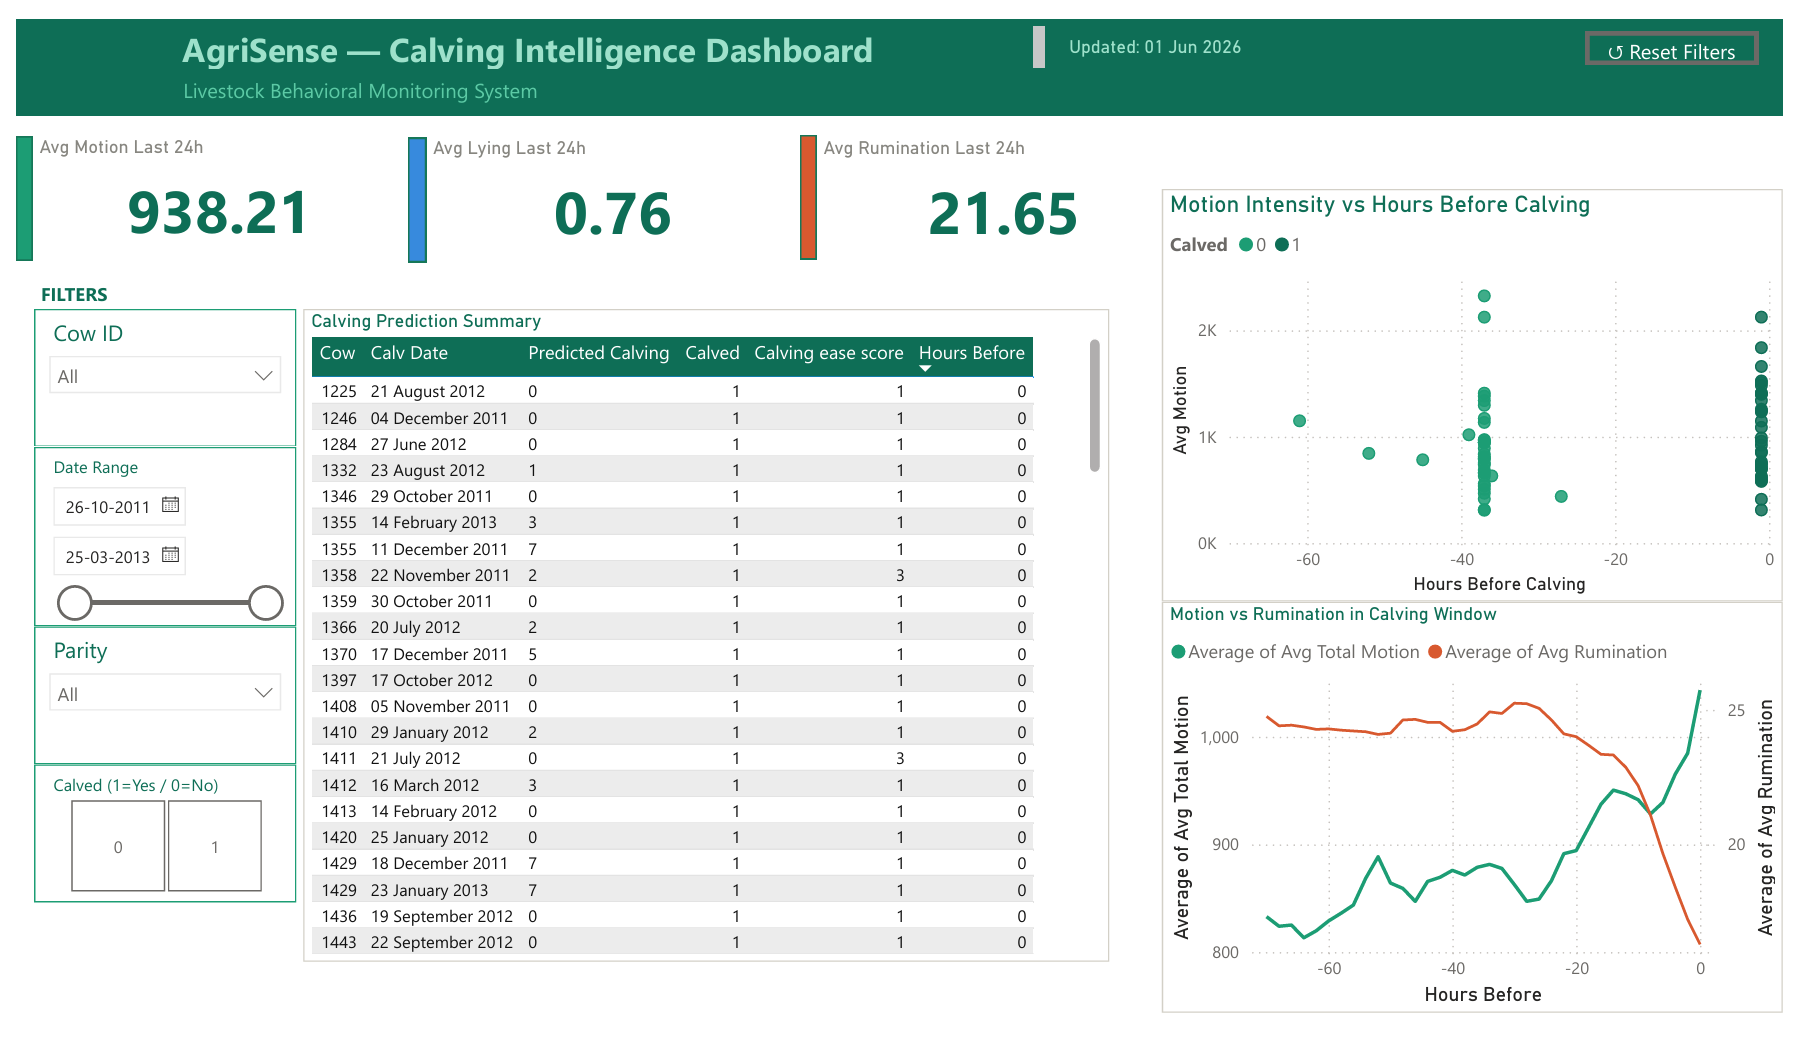

The dashboard page shown, as its layout file describes it:
{"tool":"powerbi","page":{"name":"Pre-Calving Analysis","canvas":[1280,720],"ordinal":2},"visuals":[{"type":"shape","box":[0,0,1280,70],"z":0},{"type":"textbox","box":[0,0,750,41.4],"z":1000},{"type":"textbox","box":[115.7,35.7,394.3,150],"z":2000},{"type":"card","fields":{"Values":["hour__1_1.Last Refreshed"]},"box":[750,2.9,151.4,35.7],"z":3000},{"type":"actionButton","title":"Export PDF ","box":[1137,9,125,24],"z":5000},{"type":"shape","box":[0,175,280,468.3],"z":6000},{"type":"textbox","box":[13.3,185,195,28.3],"z":7000},{"type":"slicer","title":"Cow ID","fields":{"Values":["hour__1_1.Cow"]},"box":[13.3,210,190,100],"z":8000},{"type":"slicer","title":"Cow ID","fields":{"Values":["hour__1_1.Date"]},"box":[13.3,310,190,130],"z":9000},{"type":"slicer","title":"Cow ID","fields":{"Values":["hour__1_1.Parity"]},"box":[13.3,440,190,100],"z":10000},{"type":"slicer","title":"Cow ID","fields":{"Values":["hour__1_1.Calved"]},"box":[13.3,540,190,100],"z":11000},{"type":"card","title":"Avg Motion Last 24h","fields":{"Values":["hour__1_1.Avg Motion Last 24h"]},"box":[11.7,85,271.7,90],"z":12000},{"type":"shape","box":[0,85,11.7,90],"z":13000},{"type":"card","title":"Avg Lying Last 24h","fields":{"Values":["hour__1_1.Avg Lying Last 24h"]},"box":[296.7,85.6,271.1,90],"z":14000},{"type":"card","title":"Avg Rumination Last 24h","fields":{"Values":["hour__1_1.Avg Rumination Last 24h"]},"box":[580,85.6,271.1,90],"z":15000},{"type":"shape","box":[284.4,85.6,12.2,90],"z":16000},{"type":"shape","box":[567.8,84.4,12.2,90],"z":17000},{"type":"scatterChart","title":"Motion Intensity vs Hours Before Calving","fields":{"Category":["hour__1_1.Cow"],"X":["Avg(hour__1_1.Hours Before)"],"Y":["Avg(hour__1_1.Avg Total Motion)"],"Series":["hour__1_1.Calved"]},"box":[830,123.3,450,298.3],"z":18000},{"type":"lineChart","title":"Motion vs Rumination in Calving Window","fields":{"Category":["hour__1_1.Hours Before"],"Y":["Avg(hour__1_1.Avg Total Motion)"],"Y2":["Avg(hour__1_1.Avg Rumination)"]},"box":[830,421.7,450,298.3],"z":19000},{"type":"tableEx","title":"Calving Prediction Summary","fields":{"Values":["hour__1_1.Cow","hour__1_1.Calv Date","hour__1_1.Predicted Calving","hour__1_1.Calved","hour__1_1.Calving ease score","hour__1_1.Hours Before"]},"box":[208.3,210,583.3,473.3],"z":20000}]}

Visuals, with their boxes in screenshot pixels (x1, y1, x2, y2), scaled from the page's 1280x720 canvas onto the 1802x1037 screenshot:
shape: locate(0, 0, 1801, 101)
textbox: locate(0, 0, 1056, 60)
textbox: locate(163, 51, 718, 267)
card - hour__1_1.Last Refreshed: locate(1056, 4, 1269, 56)
"Export PDF " actionButton: locate(1601, 13, 1777, 48)
shape: locate(0, 252, 394, 927)
textbox: locate(19, 266, 293, 307)
"Cow ID" slicer: locate(19, 302, 286, 446)
"Cow ID" slicer: locate(19, 446, 286, 634)
"Cow ID" slicer: locate(19, 634, 286, 778)
"Cow ID" slicer: locate(19, 778, 286, 922)
"Avg Motion Last 24h" card: locate(16, 122, 399, 252)
shape: locate(0, 122, 16, 252)
"Avg Lying Last 24h" card: locate(418, 123, 799, 253)
"Avg Rumination Last 24h" card: locate(817, 123, 1198, 253)
shape: locate(400, 123, 418, 253)
shape: locate(799, 122, 817, 251)
"Motion Intensity vs Hours Before Calving" scatterChart: locate(1168, 178, 1801, 607)
"Motion vs Rumination in Calving Window" lineChart: locate(1168, 607, 1801, 1036)
"Calving Prediction Summary" tableEx: locate(293, 302, 1114, 984)
